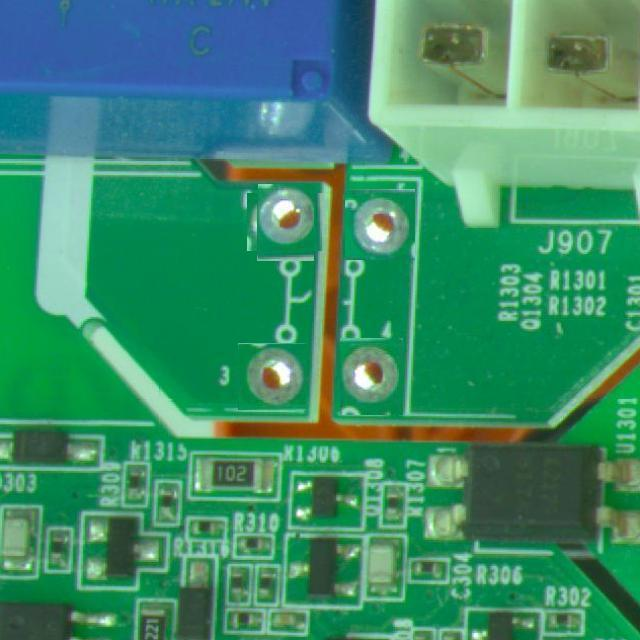lack_of_part: (345, 189, 416, 260), (340, 338, 403, 415), (238, 343, 306, 410), (252, 189, 319, 256)
